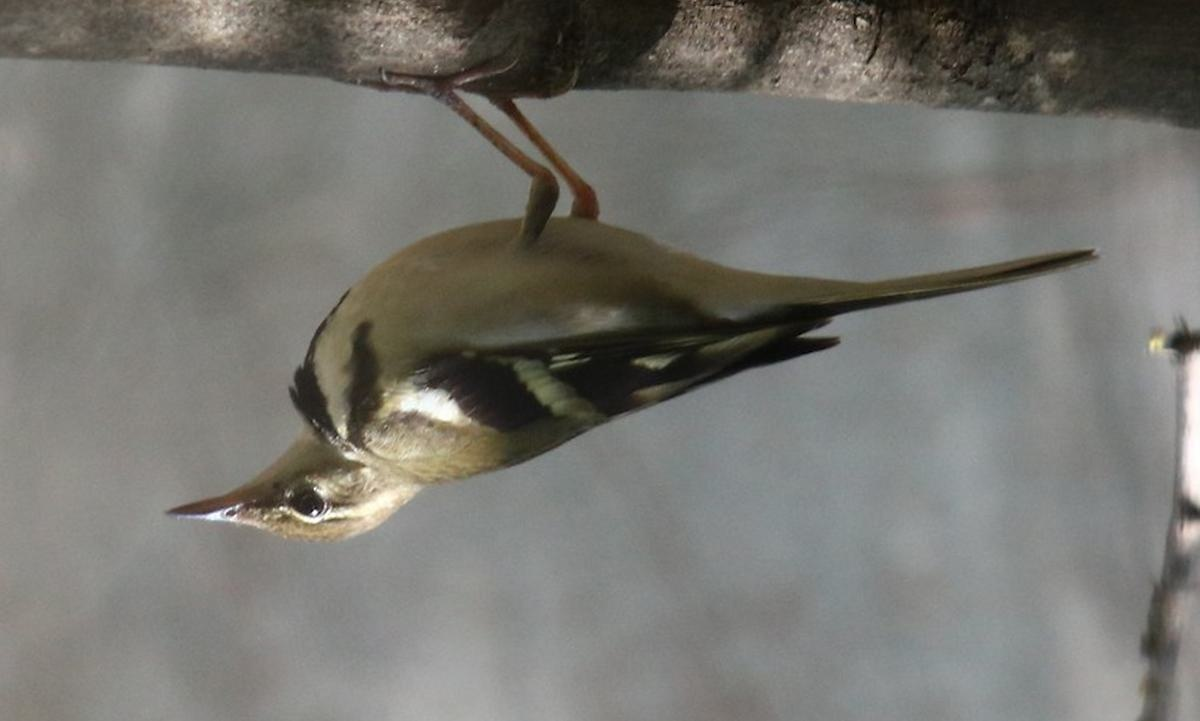wagtail: (157, 66, 1127, 550)
